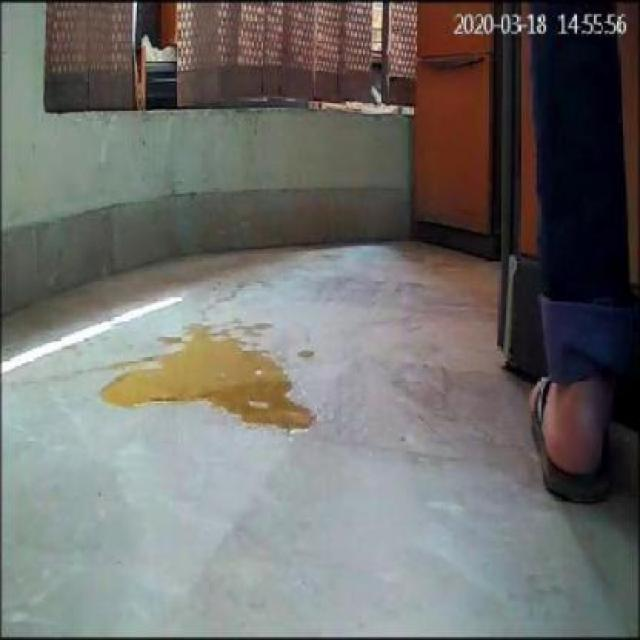spillage: (97, 329, 315, 432)
